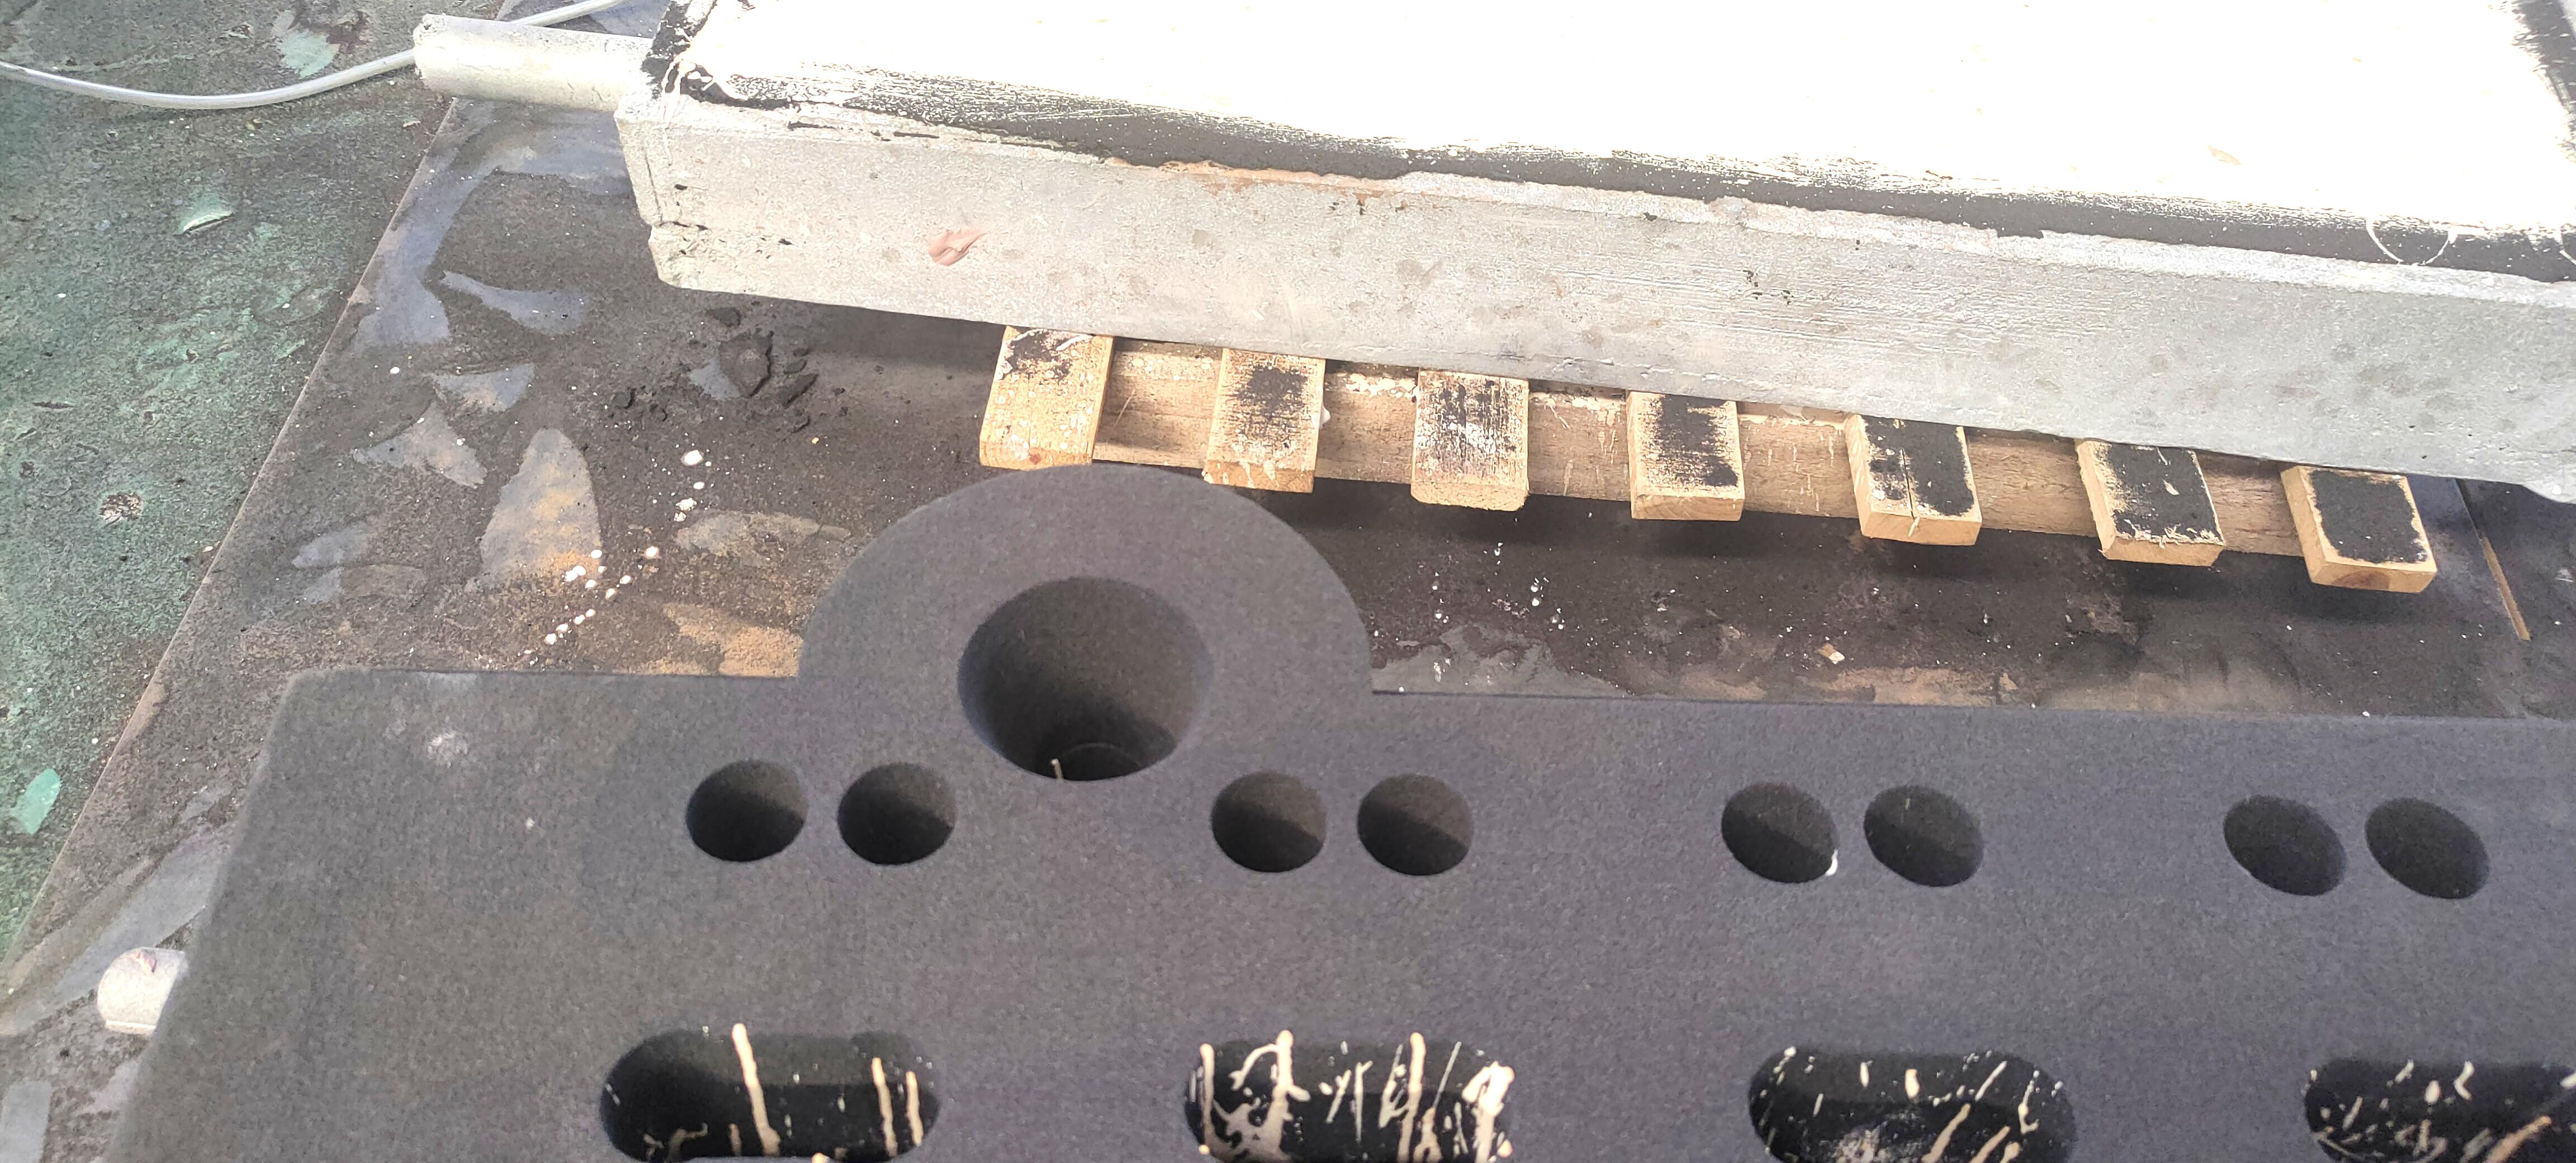pouring hole: (955, 573, 1212, 784)
